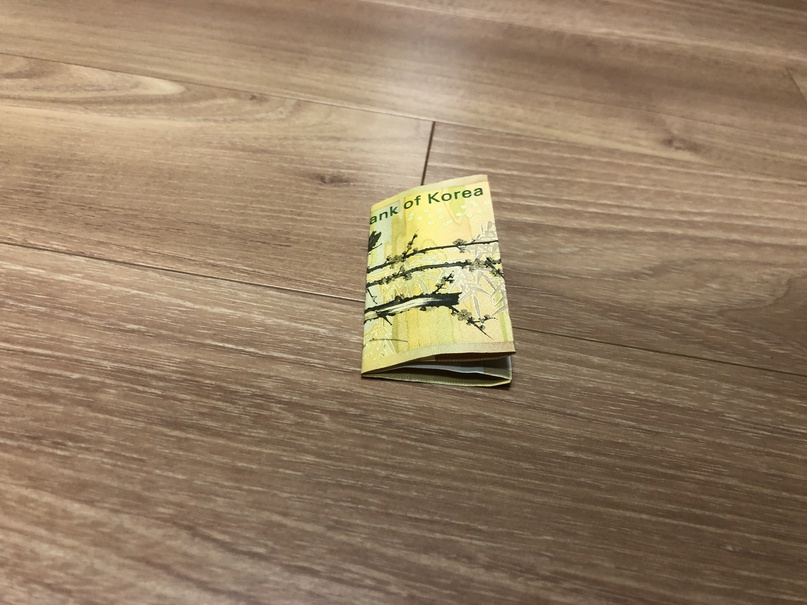50000won: (361, 173, 517, 390)
